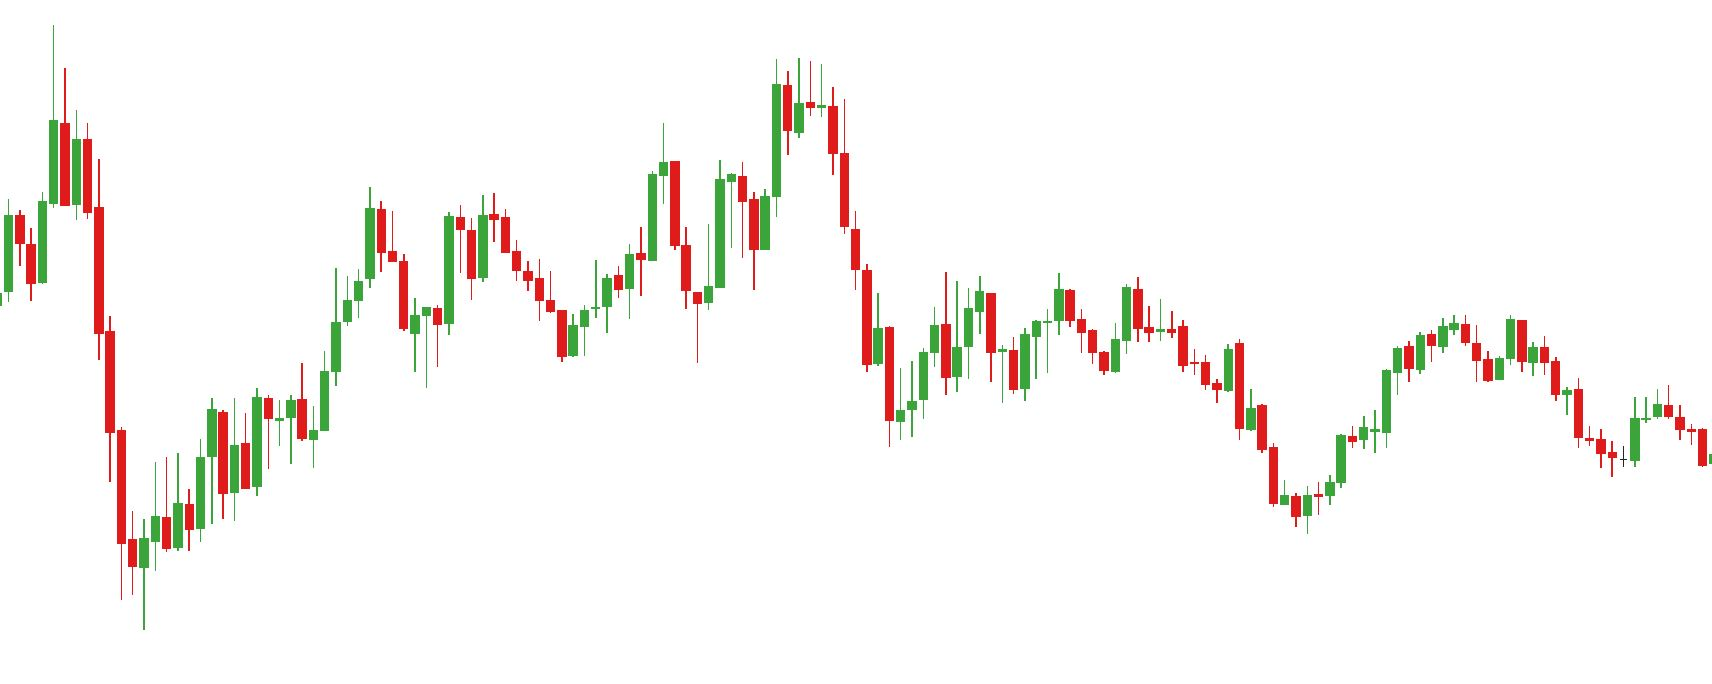buy: (556, 226, 703, 373)
sell: (658, 58, 794, 186)
